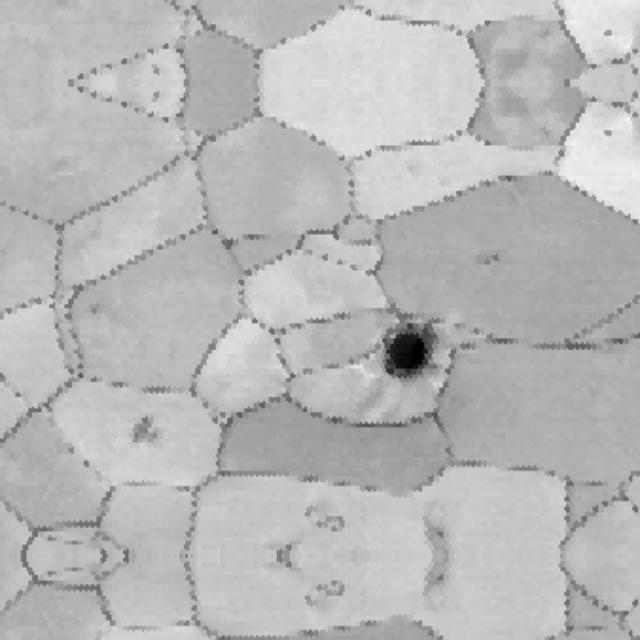good_void: (372, 324, 438, 385), (297, 498, 352, 539), (297, 575, 352, 616), (418, 514, 461, 557), (418, 557, 461, 600), (131, 416, 166, 447), (477, 248, 513, 273), (264, 539, 306, 557), (264, 557, 306, 575), (238, 230, 272, 248), (88, 299, 104, 320), (151, 88, 164, 106), (151, 61, 164, 79), (602, 127, 616, 140), (602, 27, 616, 40)
